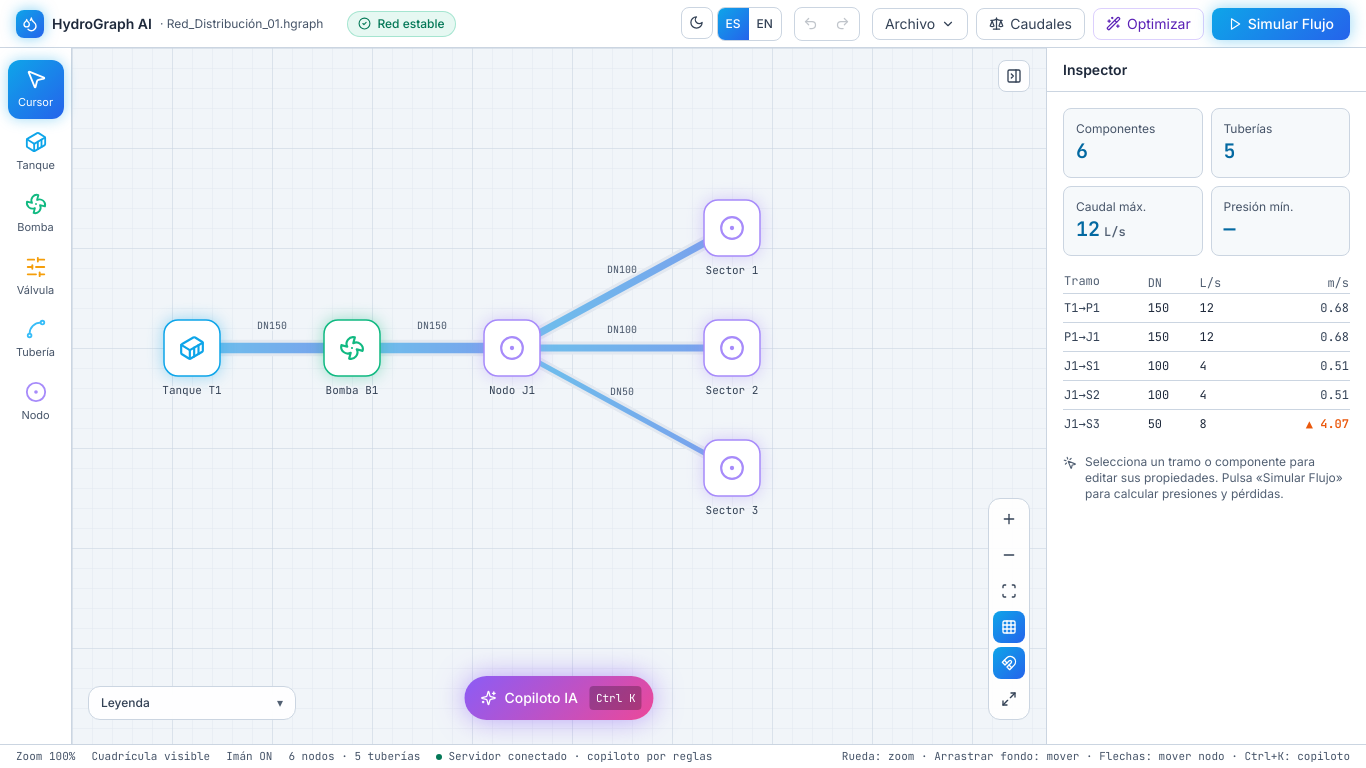
it: App › añadir un componente actualiza el recuento y lo selecciona
Click the button titled "Tanque": x=36, y=152 [8, 122, 64, 181]
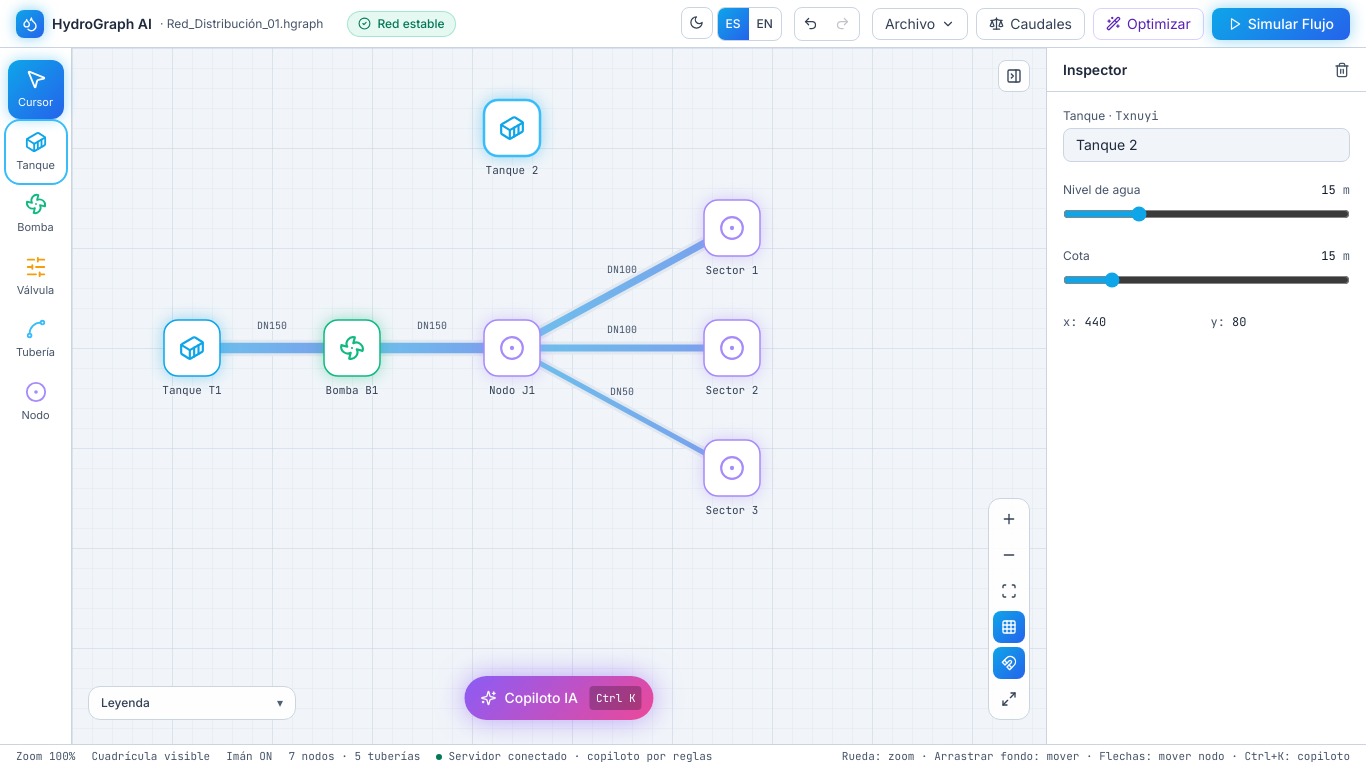
Now the text "7 nodos · 5 tuberías" is shown, box [288, 748, 420, 765]
Now the field holds "Tanque 2", box [1063, 128, 1350, 162]
